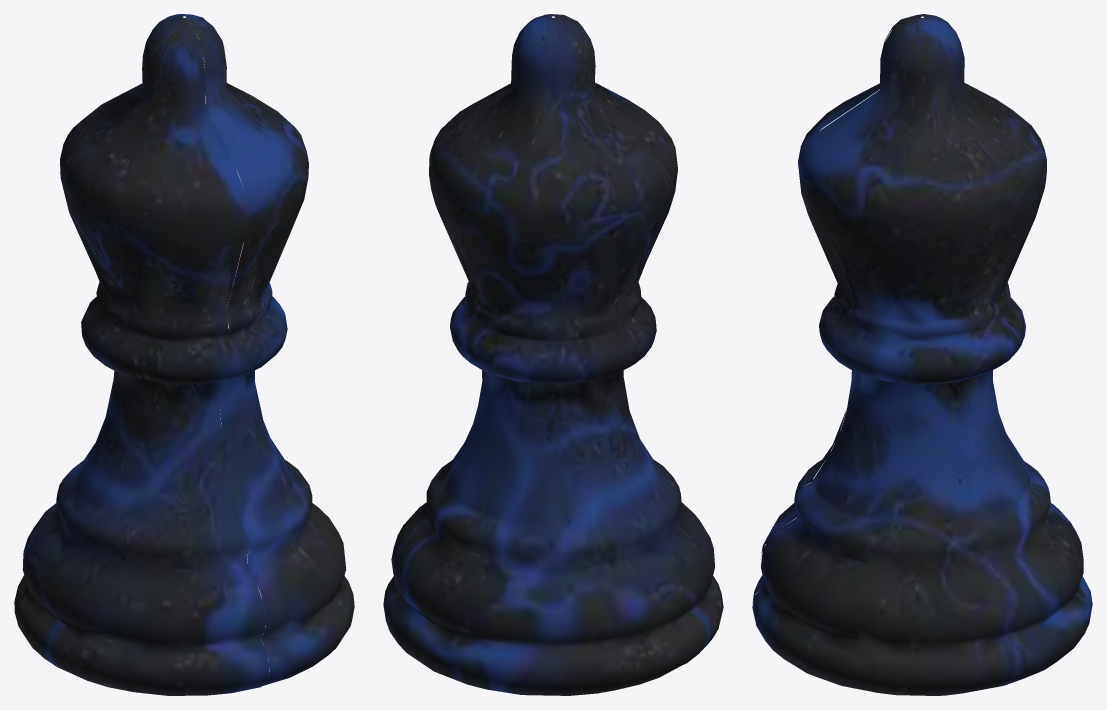
The model's file is cobalt_vein_black_bishop.glb.
3 views of the same model, side by side, from view 1: azimuth 30°, elevation 25°; view 2: azimuth 150°, elevation 25°; view 3: azimuth 270°, elevation 25° (orthographic).
Visible parts, largest first — view 1: Cobalt Vein black bishop; view 2: Cobalt Vein black bishop; view 3: Cobalt Vein black bishop.
Boxes of the visible parts, bbox=[...] form: Cobalt Vein black bishop: bbox=[14, 14, 354, 695]; Cobalt Vein black bishop: bbox=[383, 14, 723, 695]; Cobalt Vein black bishop: bbox=[752, 14, 1092, 695].
Bounding box in the file's own units: 0.035 × 0.0703 × 0.035.
1 material, 1 textured.
